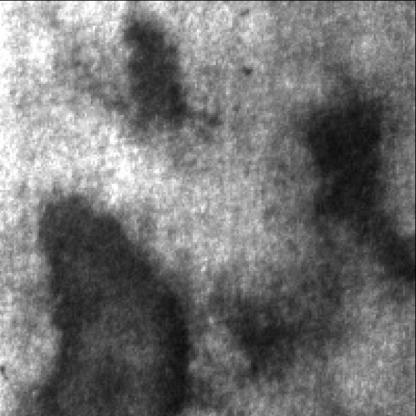patches: (31, 191, 189, 414), (304, 83, 410, 275), (229, 262, 333, 370), (114, 10, 190, 127)
